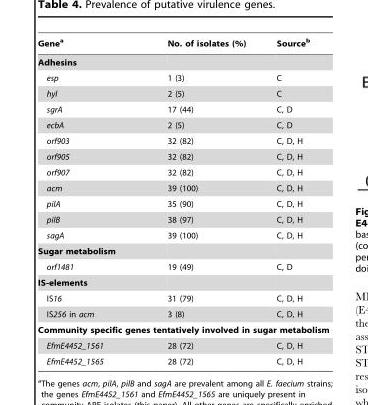table: (37, 37, 328, 365)
table column: (140, 37, 260, 365), (37, 37, 140, 365), (260, 37, 328, 365)
table column header: (37, 37, 328, 52)
table projected row header: (37, 52, 328, 69), (37, 274, 328, 290), (37, 321, 328, 337), (37, 243, 328, 258)
table row: (37, 52, 328, 69), (37, 69, 328, 85), (37, 85, 328, 101), (37, 101, 328, 117), (37, 132, 328, 148), (37, 148, 328, 164), (37, 164, 328, 180), (37, 195, 328, 211), (37, 211, 328, 227), (37, 227, 328, 243), (37, 258, 328, 274), (37, 274, 328, 290), (37, 290, 328, 306), (37, 321, 328, 337), (37, 337, 328, 353), (37, 37, 328, 52), (37, 117, 328, 132), (37, 180, 328, 195), (37, 243, 328, 258), (37, 306, 328, 321), (37, 353, 328, 365)
